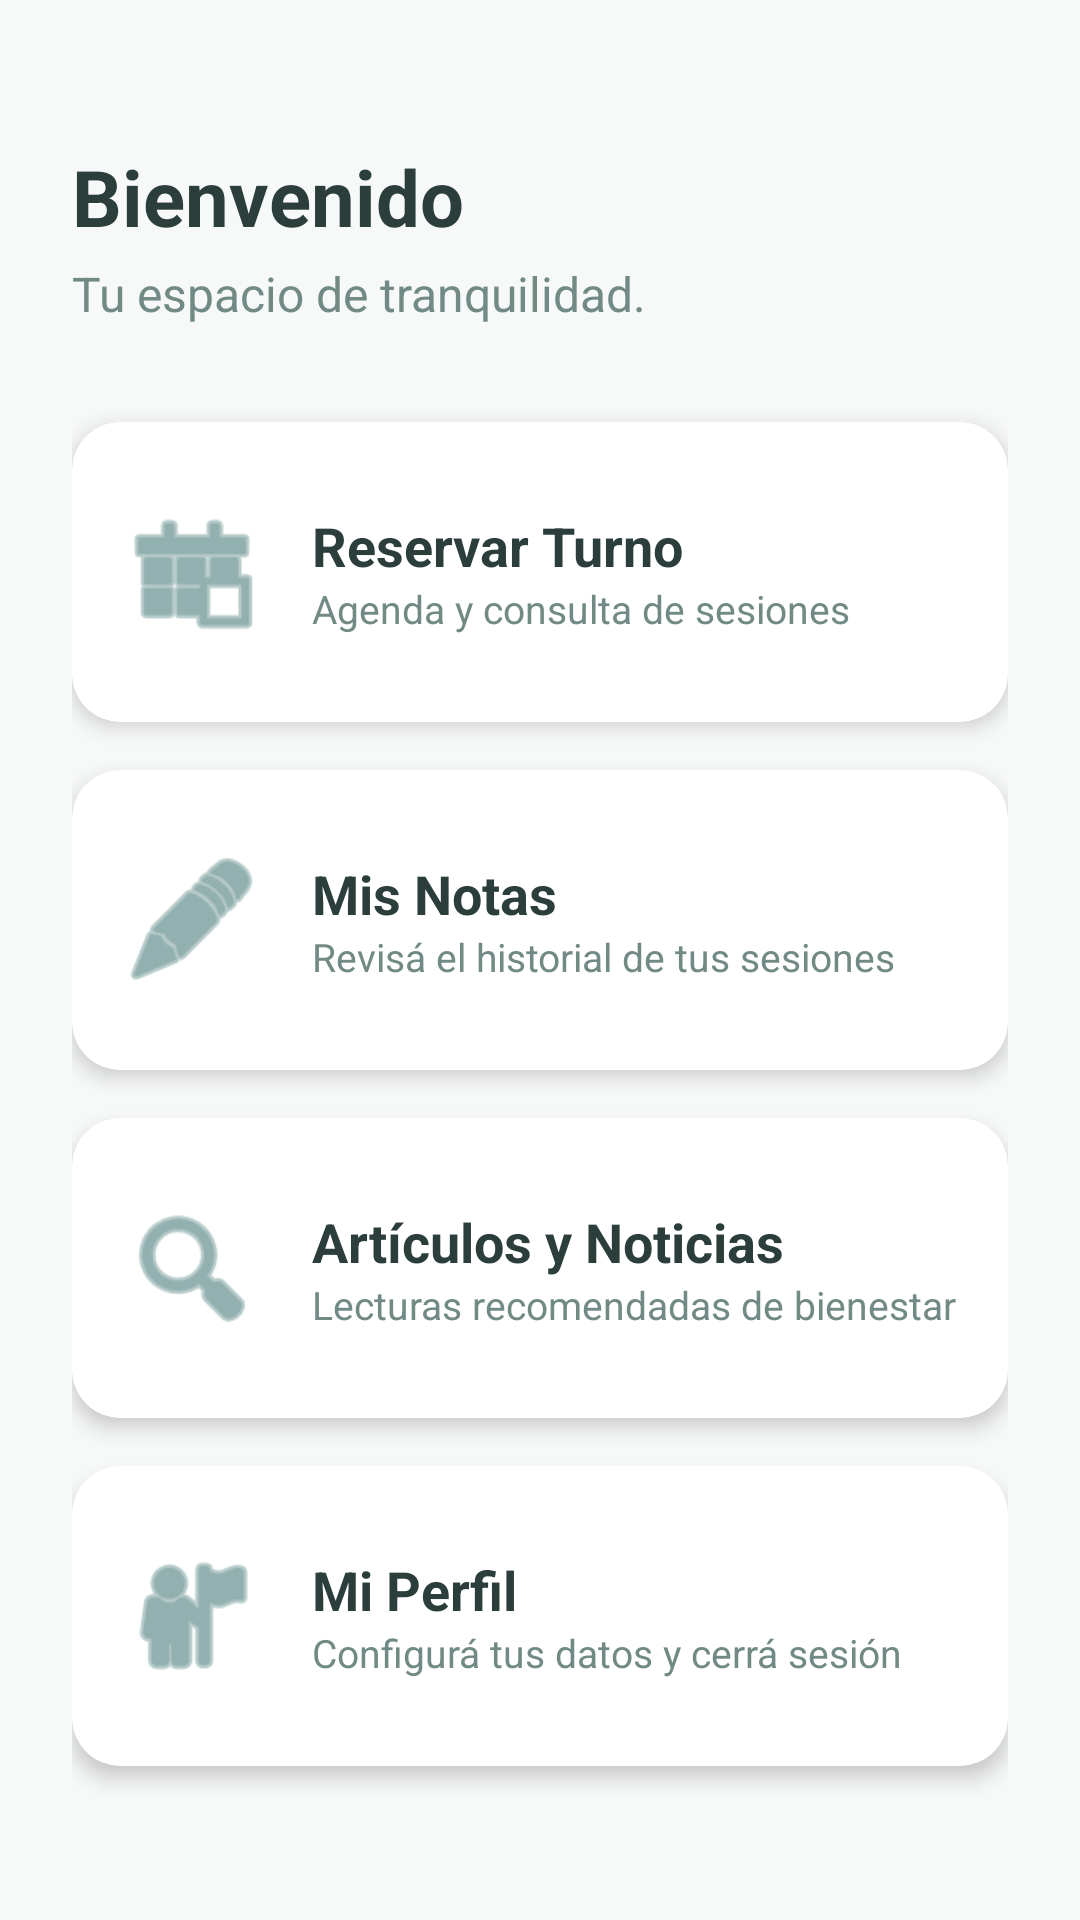

Screen size 1080px×1920px. Icon name, then its box in pixels as (x1, y1, x2, y2):
edit: (131, 858, 252, 980)
myplaces: (139, 1562, 248, 1670)
search: (139, 1215, 245, 1322)
today: (135, 520, 252, 629)
